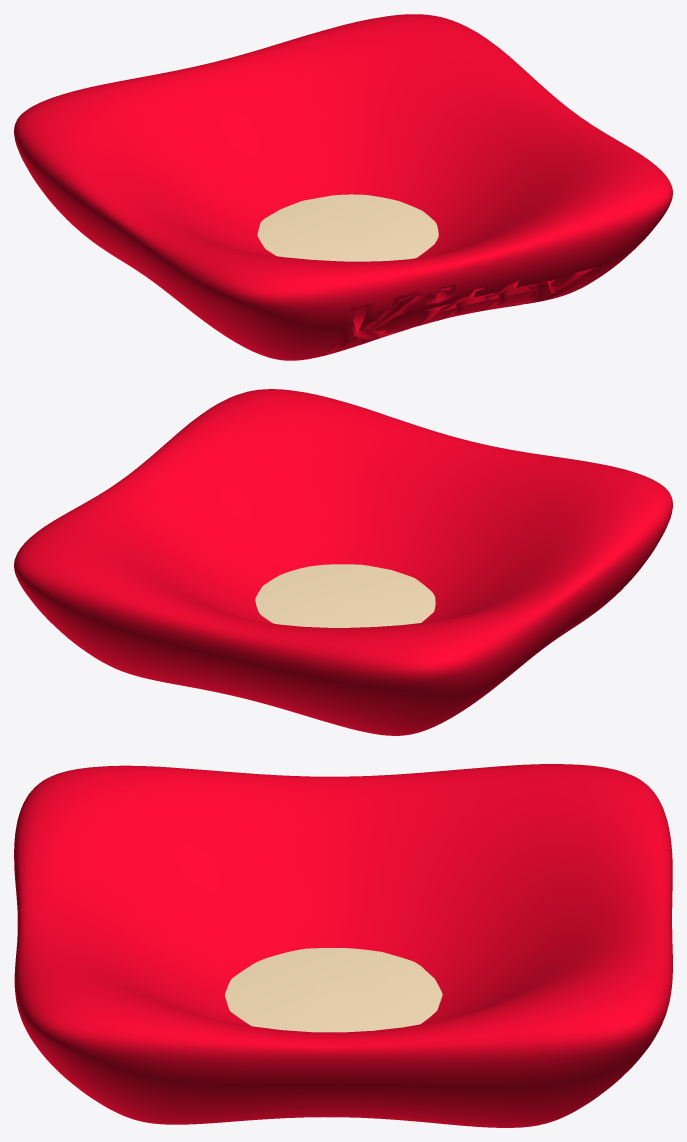
File: bowl almost empty.fbx
3 renders of one model, top to bottom at view 1: azimuth 30°, elevation 25°; view 2: azimuth 150°, elevation 25°; view 3: azimuth 270°, elevation 25°, orthographic. The views are drawn at different scales.
Parts seen in each view (by area): view 1: cat bowl, Sphere.001; view 2: cat bowl, Sphere.001; view 3: cat bowl, Sphere.001.
Boxes of the visible parts, x1=… form: cat bowl: x1=14, y1=14, x2=672, y2=360; Sphere.001: x1=257, y1=194, x2=438, y2=261; cat bowl: x1=14, y1=389, x2=672, y2=735; Sphere.001: x1=255, y1=564, x2=435, y2=627; cat bowl: x1=14, y1=764, x2=672, y2=1127; Sphere.001: x1=224, y1=948, x2=442, y2=1032.
Bounding box in the file's own units: 123 × 123 × 32.97.
